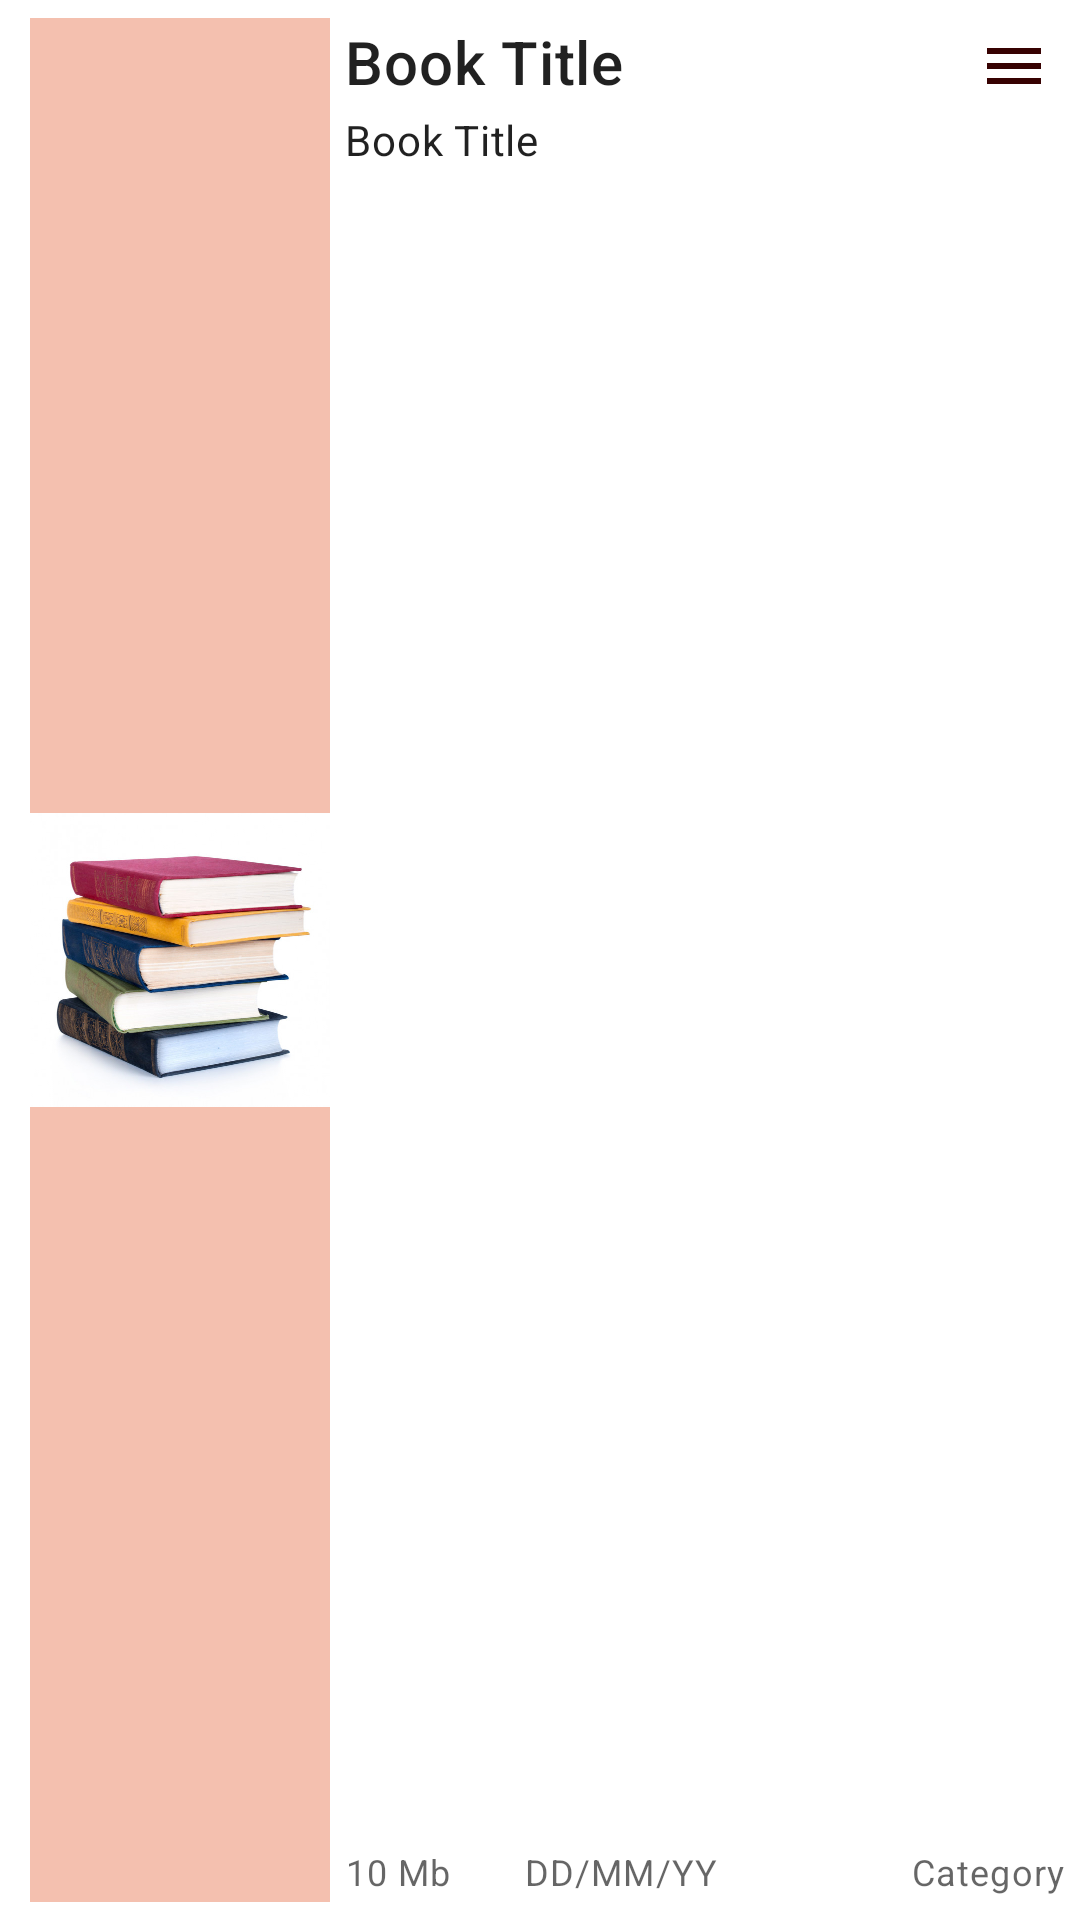

Where to tap for icons on this 1080px×1920px app screen, as [x,y]:
more: [1014,66]
